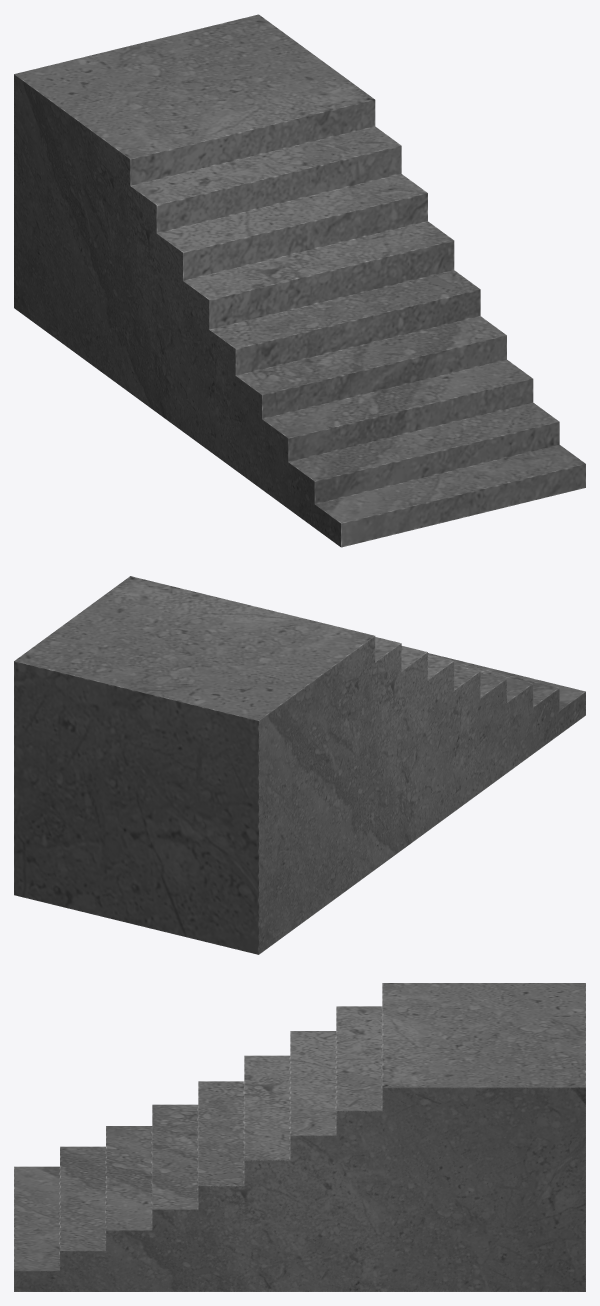
The model's file is Stair.fbx.
The picture shows the model from 3 angles, top to bottom: view 1: azimuth 30°, elevation 25°; view 2: azimuth 150°, elevation 25°; view 3: azimuth 270°, elevation 25°; orthographic projection. The views are drawn at different scales.
Visible parts, largest first — view 1: Stair1; view 2: Stair1; view 3: Stair1.
Boxes of the visible parts, x1,y1,x2,y2 form: Stair1: (14,14,585,547); Stair1: (14,576,585,954); Stair1: (14,983,585,1291).
Size of the model in its own units: 5.79 by 5.28 by 13.39.
